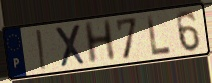6: (175, 8, 202, 54)
7: (115, 15, 140, 62)
H: (82, 18, 118, 67)
I: (34, 27, 49, 72)
L: (145, 13, 173, 58)
X: (53, 23, 88, 70)
